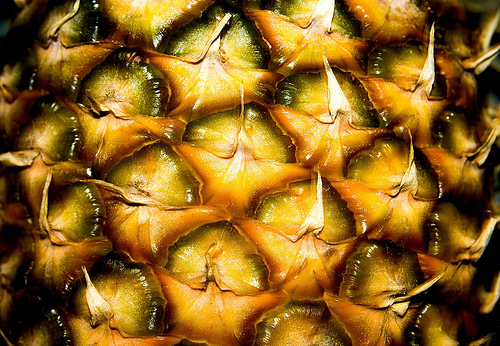pineapple: (1, 0, 499, 345)
